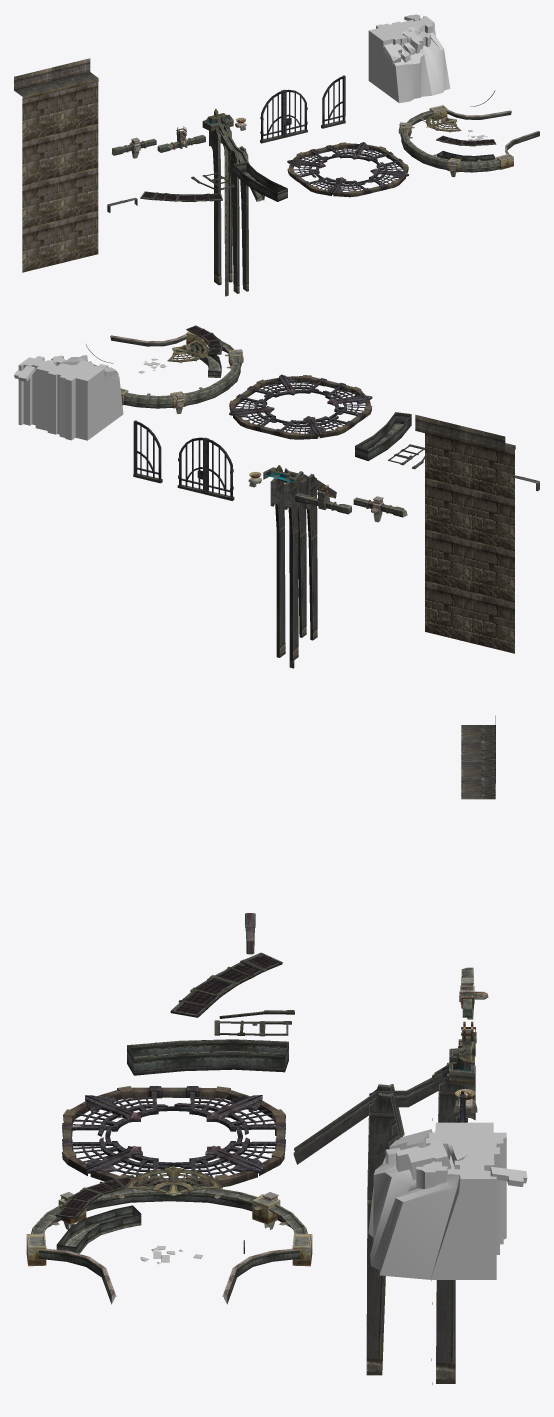
Rendered from d_1107_wall02.FBX.
3 renders of one model, top to bottom at view 1: azimuth 30°, elevation 25°; view 2: azimuth 150°, elevation 25°; view 3: azimuth 270°, elevation 25°, orthographic. The views are drawn at different scales.
Parts seen in each view (by area): view 1: w_1118_thing_03, d_1107_frool12, Object004, w_1107_thing_20, d_1107_wall024, d_1107_wall014, d_1107_wall08, d_1107_frool11, d_1107_wall016, d_1107_wall018, Object006, d_1107_wall02 (+5 smaller); view 2: w_1118_thing_03, d_1107_frool12, Object004, d_1107_wall014, d_1107_wall024, w_1107_thing_20, d_1107_wall08, d_1107_frool11, d_1107_wall016, d_1107_wall018, d_1107_wall02, d_1107_wall01 (+2 smaller); view 3: d_1107_frool12, Object004, w_1107_thing_20, d_1107_wall024, d_1107_wall016, d_1107_frool11, d_1107_wall014, w_1118_thing_03, d_1107_wall017, d_1107_wall023, d_1107_wall021, d_1107_wall04 (+1 smaller).
Part boxes in pixels (x1,y1,x2,y2): w_1118_thing_03: [14, 58, 98, 272]; d_1107_frool12: [368, 16, 450, 103]; Object004: [287, 142, 408, 197]; w_1107_thing_20: [398, 105, 539, 177]; d_1107_wall024: [219, 129, 264, 293]; d_1107_wall014: [202, 108, 233, 285]; d_1107_wall08: [260, 89, 307, 143]; d_1107_frool11: [369, 14, 434, 56]; d_1107_wall016: [233, 161, 287, 201]; d_1107_wall018: [321, 75, 345, 128]; Object006: [218, 119, 228, 296]; d_1107_wall02: [157, 126, 205, 152]; w_1118_thing_03: [415, 414, 515, 653]; d_1107_frool12: [14, 355, 123, 440]; Object004: [229, 374, 372, 439]; d_1107_wall014: [263, 465, 299, 660]; d_1107_wall024: [282, 471, 336, 640]; w_1107_thing_20: [94, 331, 243, 413]; d_1107_wall08: [177, 437, 234, 500]; d_1107_frool11: [14, 355, 115, 380]; d_1107_wall016: [355, 412, 411, 460]; d_1107_wall018: [133, 420, 162, 483]; d_1107_wall02: [295, 483, 351, 514]; d_1107_wall01: [353, 496, 407, 522]; d_1107_frool12: [368, 1129, 527, 1279]; Object004: [62, 1086, 285, 1186]; w_1107_thing_20: [26, 1186, 312, 1304]; d_1107_wall024: [294, 1076, 446, 1375]; d_1107_wall016: [127, 1039, 288, 1075]; d_1107_frool11: [386, 1122, 527, 1181]; d_1107_wall014: [434, 1041, 475, 1383]; w_1118_thing_03: [461, 715, 495, 799]; d_1107_wall017: [56, 1205, 141, 1253]; d_1107_wall023: [124, 1165, 222, 1196]; d_1107_wall021: [176, 956, 278, 1014]; d_1107_wall04: [170, 952, 282, 1017].
Bounding box in the file's own units: 12931 × 7348 × 6522.
